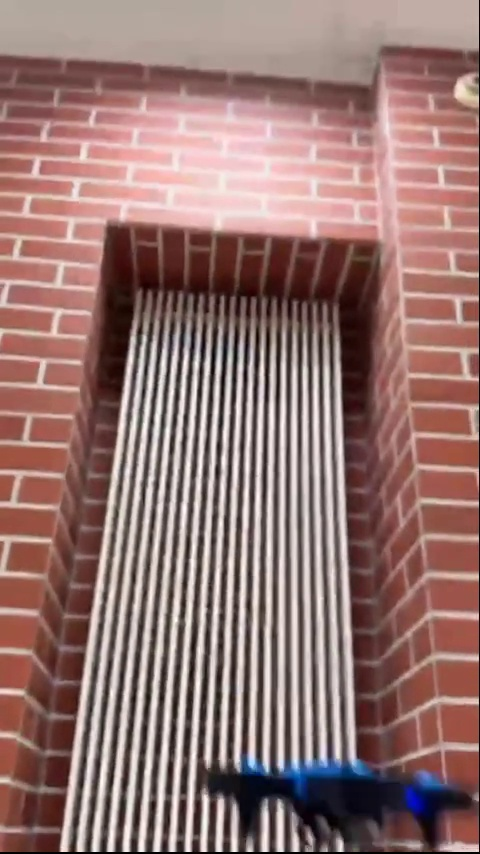drone: (196, 757, 480, 854)
